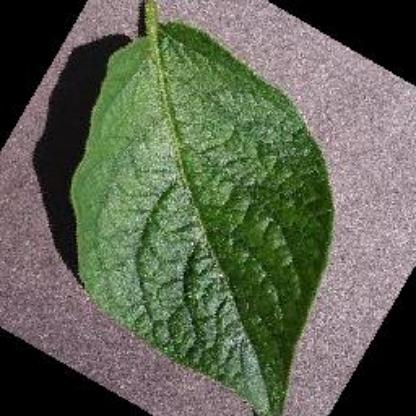Healthy-plant: (62, 1, 364, 414)
